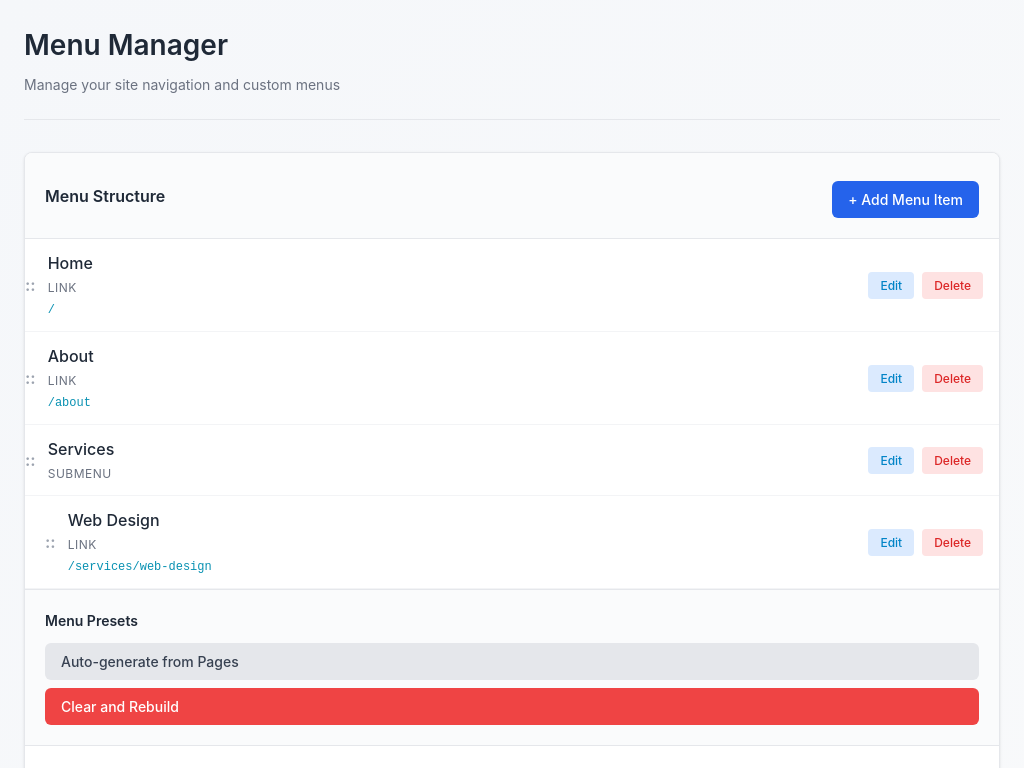
Test: MenuManager › shows URL input when "Custom URL" type is selected
The image size is (1024, 768).
Click the button "+ Add Menu Item".
click(906, 200)  # box x1=832 y1=181 x2=979 y2=218
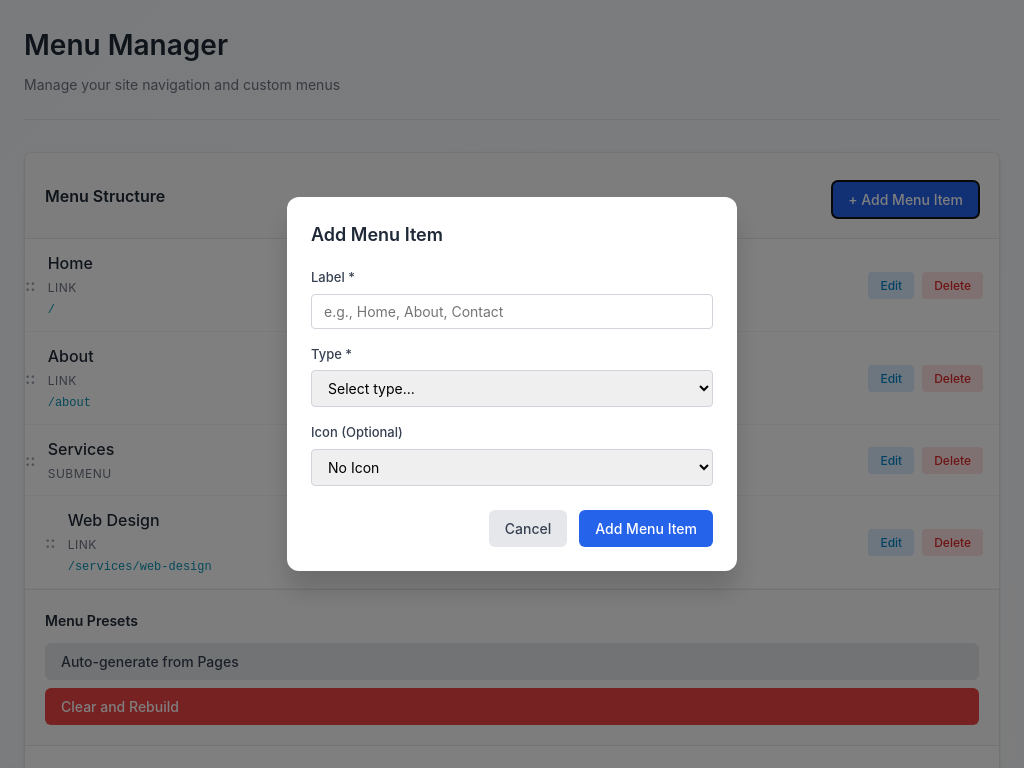
Select "Custom URL" in the dropdown with id "type" at (512, 389), box x1=311 y1=370 x2=713 y2=407
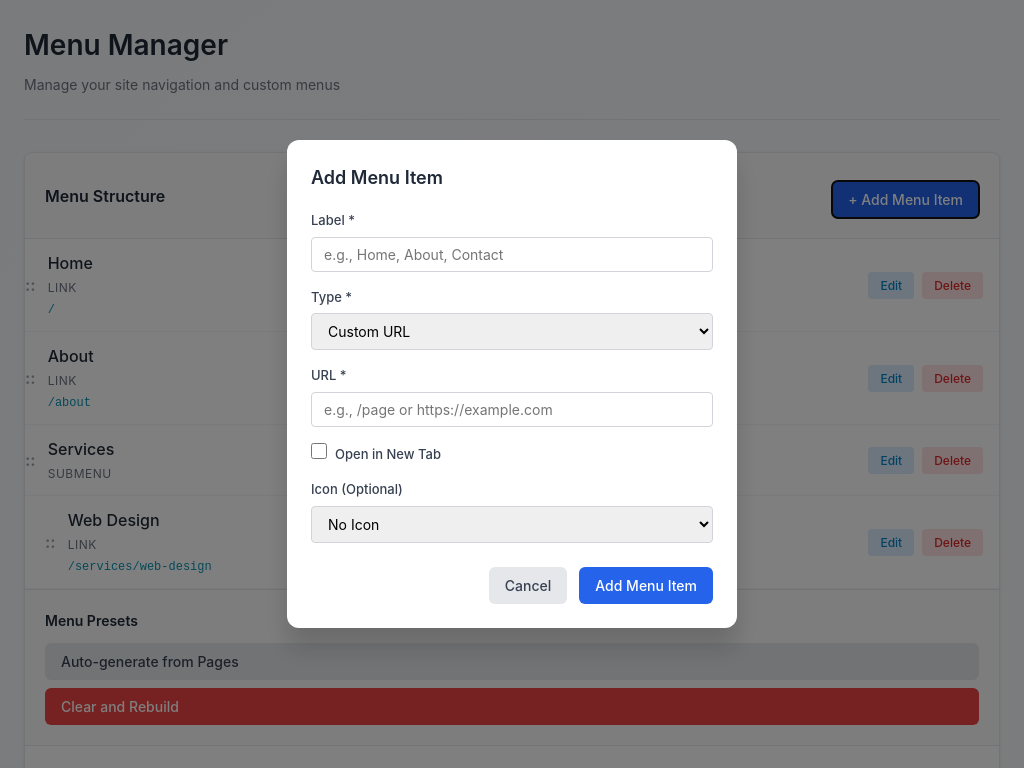
Result: the field labelled "URL *" is shown at x1=311 y1=392 x2=713 y2=427
